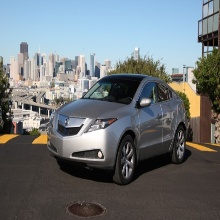no damage: (48, 75, 192, 183)
